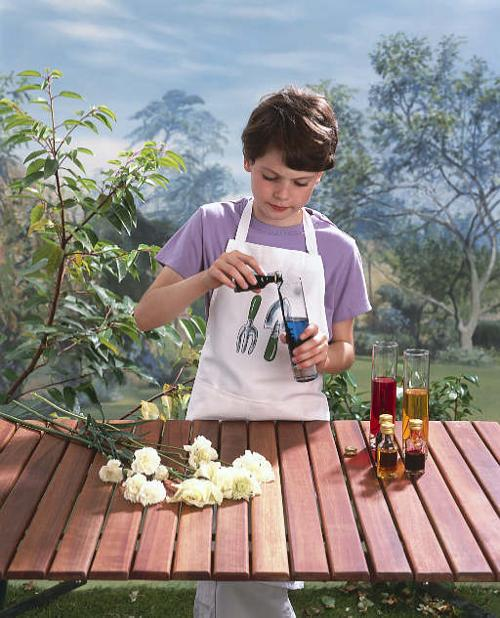person: (134, 86, 364, 422)
